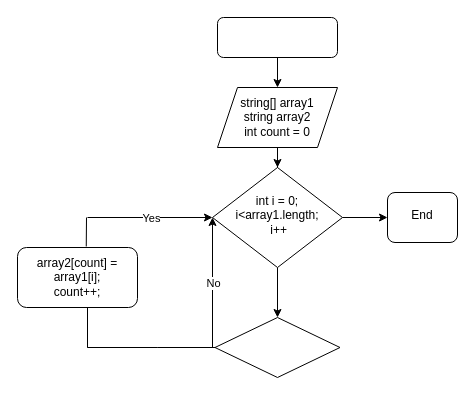
The diagram is 475 pixels wide and 395 high, and some of its shapes have lost their labels. Each missing label, with the centre of its shape:
"array1[i].length<=3" belongs at pixel 277 347.
"StringArrayLessThree" belongs at pixel 277 37.
